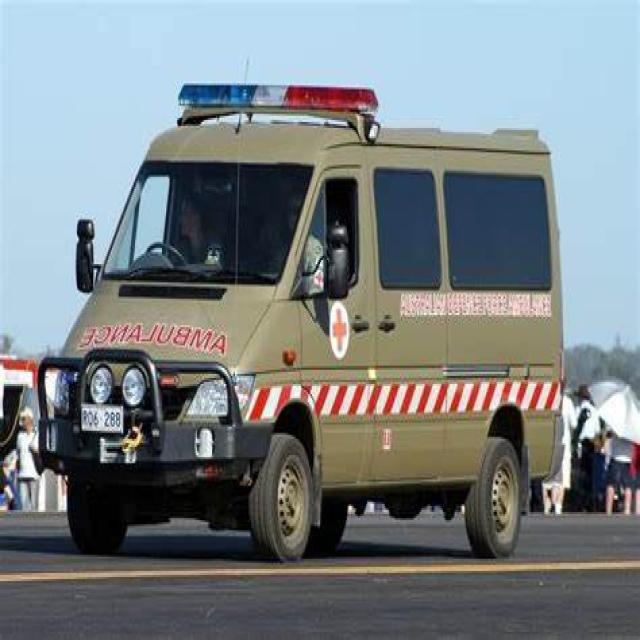ambulance: (178, 60, 374, 130)
